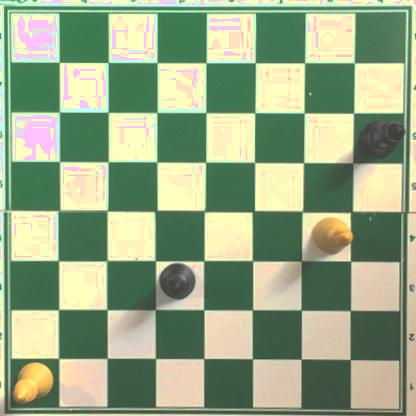black-bishop: (357, 119, 407, 161), (158, 262, 197, 301)
white-bishop: (11, 361, 53, 405), (311, 217, 353, 255)
